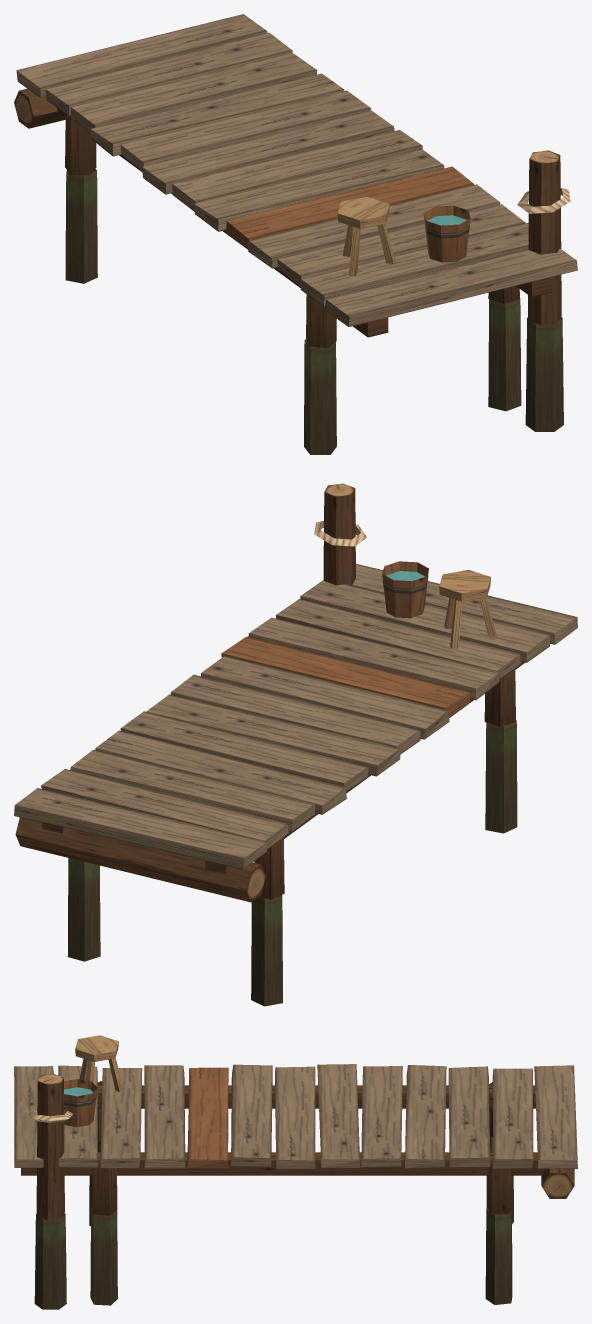
The model's file is wetland_jetty.glb.
3 renders of one model, top to bottom at view 1: azimuth 30°, elevation 25°; view 2: azimuth 150°, elevation 25°; view 3: azimuth 270°, elevation 25°, orthographic. The views are drawn at different scales.
Parts seen in each view (by area): view 1: wetland_jetty; view 2: wetland_jetty; view 3: wetland_jetty.
Boxes of the visible parts, x1=… form: wetland_jetty: x1=14, y1=14, x2=577, y2=454; wetland_jetty: x1=14, y1=483, x2=577, y2=1006; wetland_jetty: x1=14, y1=1035, x2=577, y2=1309.
Size of the model in its own units: 0.7156 by 0.7501 by 1.71.
Materials: 1 (1 with a texture image).
